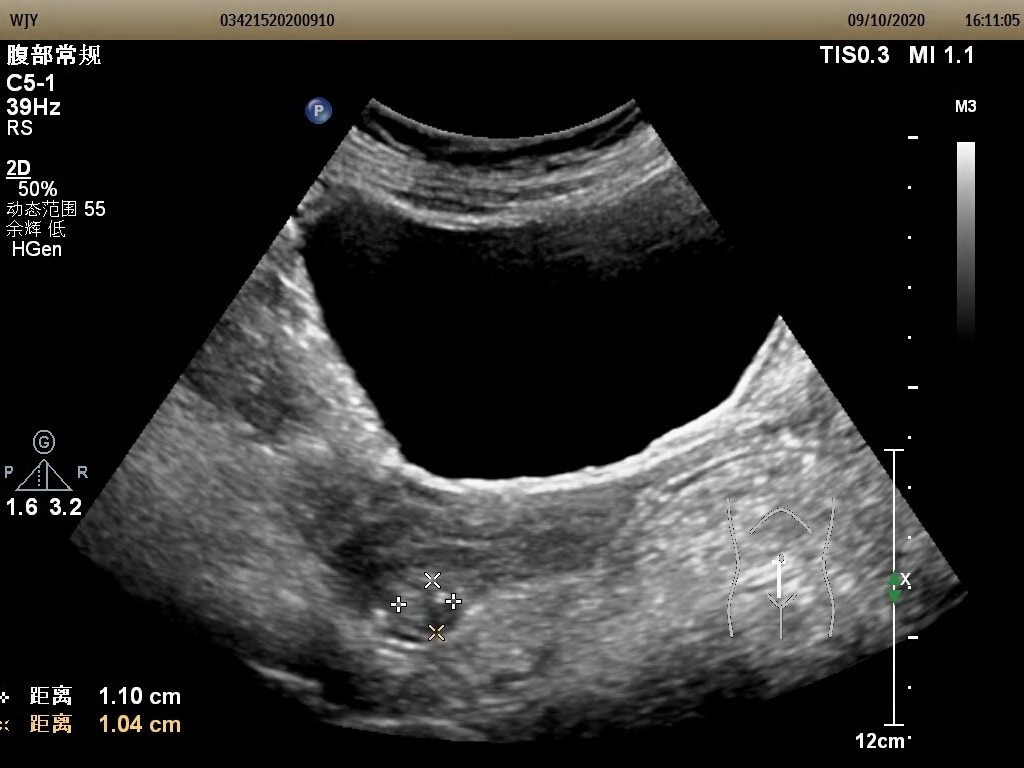肌瘤: (397, 580, 455, 635)
